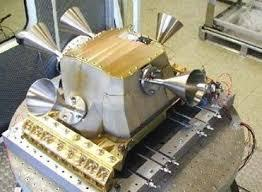thruster: (154, 69, 206, 110), (26, 78, 75, 119), (23, 20, 62, 58), (59, 7, 96, 41), (153, 11, 184, 49)
